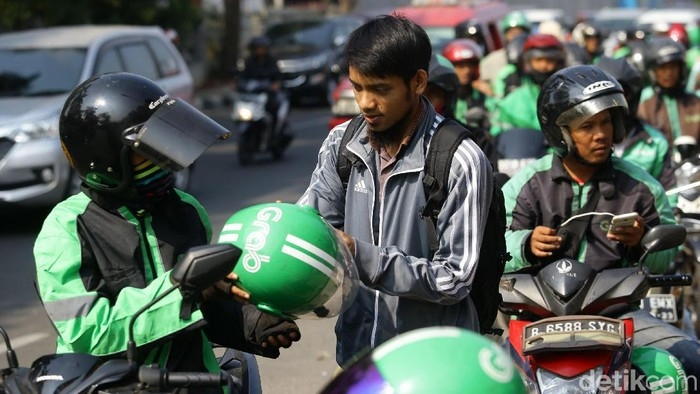plate: (523, 321, 625, 351)
